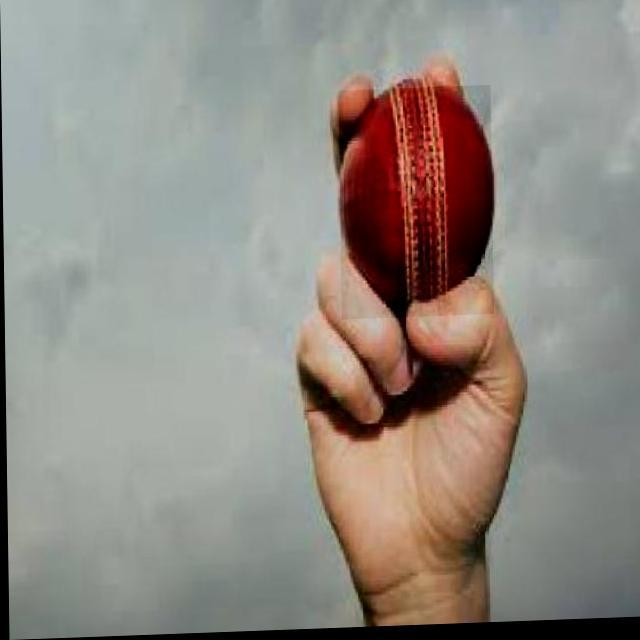-: (338, 89, 493, 322)
